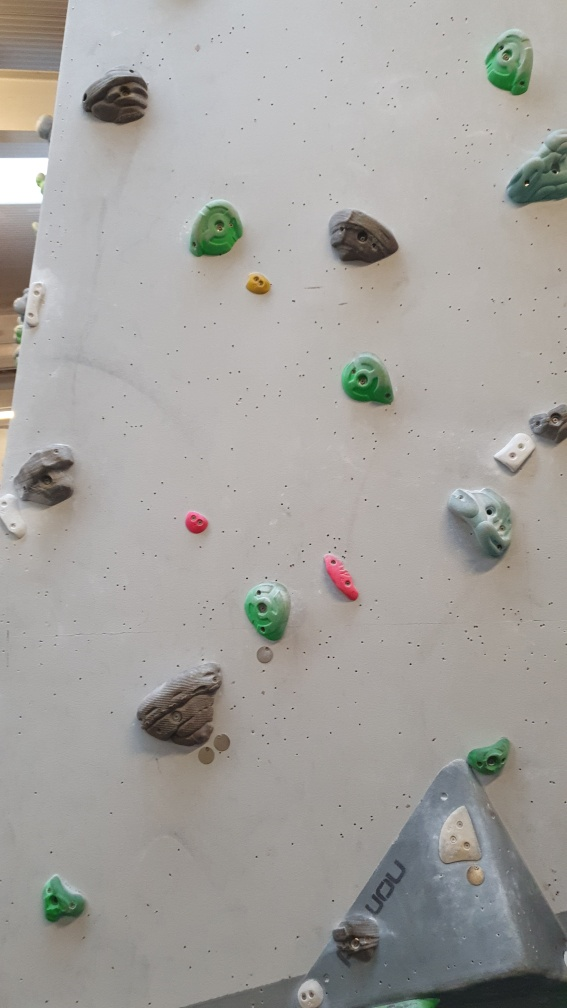Crimp: (438, 803, 483, 870), (491, 427, 537, 474), (321, 554, 358, 602), (1, 492, 27, 541), (27, 282, 46, 321)
Hand Start: (464, 864, 486, 888), (211, 731, 233, 755), (195, 743, 217, 767), (257, 641, 277, 664)
Jug: (133, 661, 226, 748), (443, 485, 520, 559), (499, 127, 567, 210), (323, 203, 405, 270), (10, 440, 85, 513), (81, 64, 150, 125), (188, 195, 246, 261), (338, 348, 398, 409), (484, 27, 536, 97), (242, 580, 295, 640), (468, 732, 513, 784)
